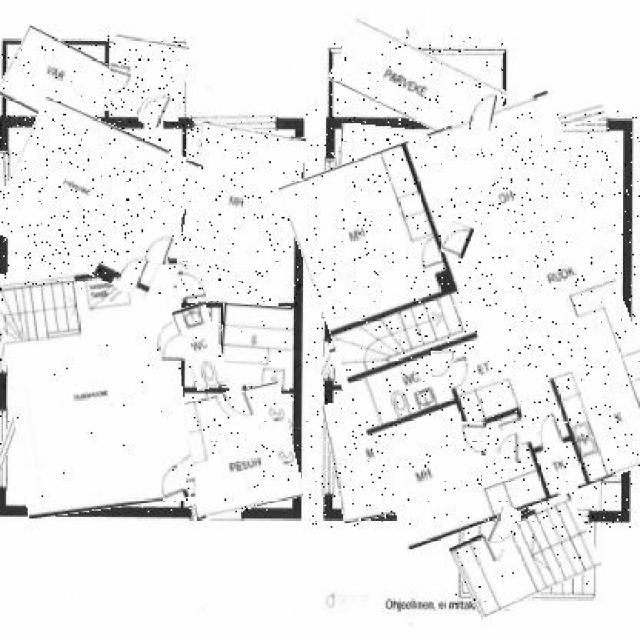door: (157, 466, 189, 503), (491, 506, 517, 548), (442, 221, 472, 257), (142, 89, 168, 128), (226, 386, 254, 420), (179, 268, 206, 303), (471, 91, 495, 129), (460, 422, 486, 456), (497, 431, 520, 463), (148, 234, 172, 263), (104, 70, 130, 96), (160, 335, 186, 360), (431, 351, 454, 377)
window: (516, 111, 606, 135), (192, 114, 276, 131), (0, 283, 12, 372), (0, 410, 12, 483), (323, 422, 334, 496), (192, 505, 242, 520), (326, 158, 336, 231), (321, 340, 337, 377), (0, 151, 8, 223), (322, 292, 336, 320)
zone: (306, 109, 640, 529), (3, 258, 188, 514), (0, 110, 191, 284), (331, 126, 471, 286), (178, 125, 300, 306), (328, 383, 489, 517), (330, 36, 504, 136), (177, 388, 298, 514), (454, 504, 597, 608), (0, 34, 112, 128), (106, 37, 188, 120), (332, 324, 434, 390), (220, 304, 292, 390), (178, 303, 224, 389), (482, 458, 526, 511)
